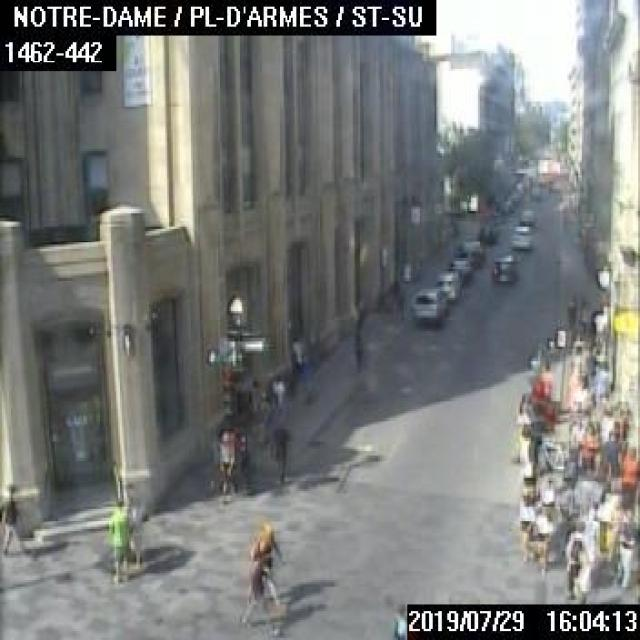pedestrian: (246, 518, 284, 618), (105, 493, 132, 582), (0, 482, 29, 551), (123, 493, 147, 566), (615, 506, 636, 587), (565, 521, 584, 596), (289, 334, 311, 396), (533, 504, 552, 574), (216, 427, 231, 500), (578, 424, 598, 472), (272, 426, 290, 479), (621, 445, 638, 500), (603, 429, 621, 475), (590, 356, 608, 402), (270, 370, 285, 410), (391, 600, 405, 638)
vehicle: (407, 286, 447, 322), (434, 271, 464, 301), (507, 218, 535, 249), (447, 253, 474, 284), (491, 254, 520, 282), (457, 239, 483, 266), (478, 224, 498, 243)
